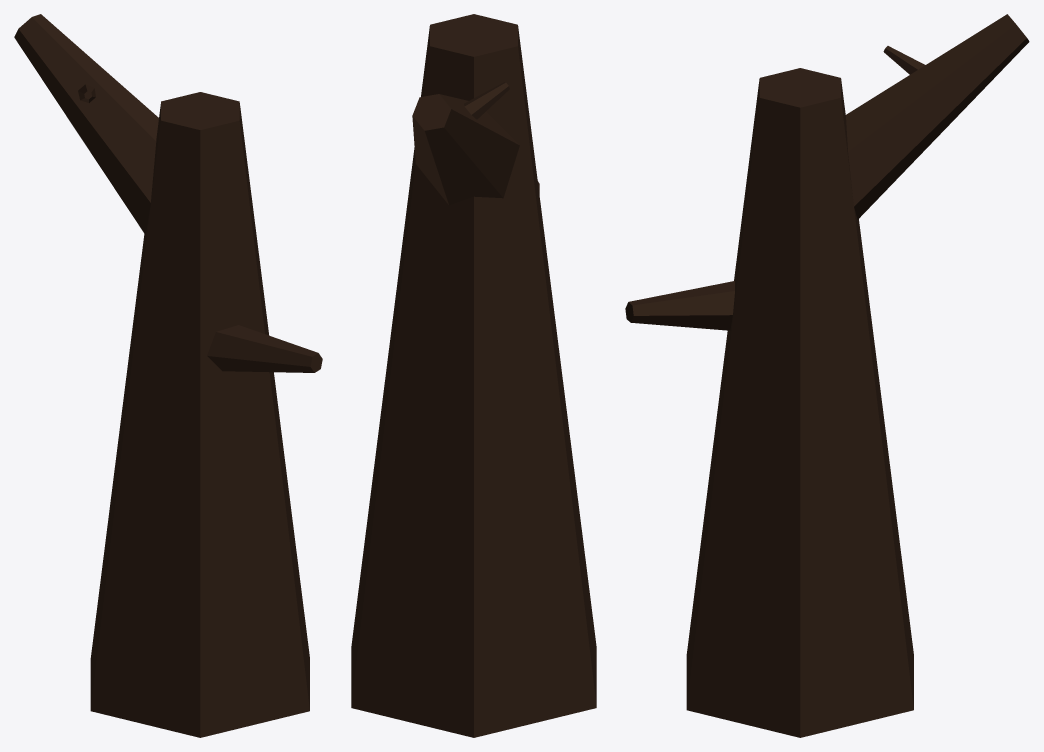
The model's file is burned_tree.fbx.
3 renders of one model, left to right at view 1: azimuth 30°, elevation 25°; view 2: azimuth 150°, elevation 25°; view 3: azimuth 270°, elevation 25°, orthographic. The views are drawn at different scales.
Parts seen in each view (by area): view 1: Cylinder, Cylinder_3, Cylinder_4; view 2: Cylinder, Cylinder_3, Cylinder_5; view 3: Cylinder, Cylinder_3, Cylinder_4.
Boxes of the visible parts, <box> form: Cylinder: <box>90,92,309,737</box>; Cylinder_3: <box>14,14,158,235</box>; Cylinder_4: <box>207,325,322,372</box>; Cylinder: <box>351,14,596,737</box>; Cylinder_3: <box>412,94,519,205</box>; Cylinder_5: <box>464,82,509,119</box>; Cylinder: <box>686,68,913,737</box>; Cylinder_3: <box>845,14,1029,219</box>; Cylinder_4: <box>625,281,734,330</box>.
Size of the model in its own units: 20 by 53.28 by 30.8.
